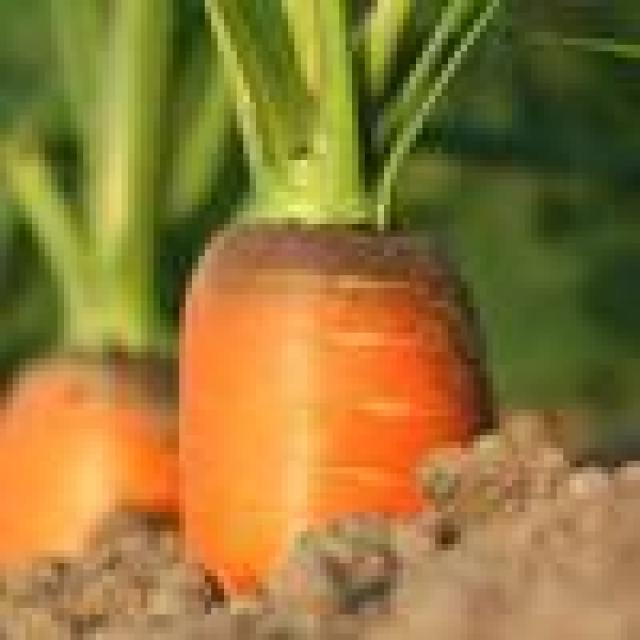Fresh_Carrot: (179, 0, 499, 580)
